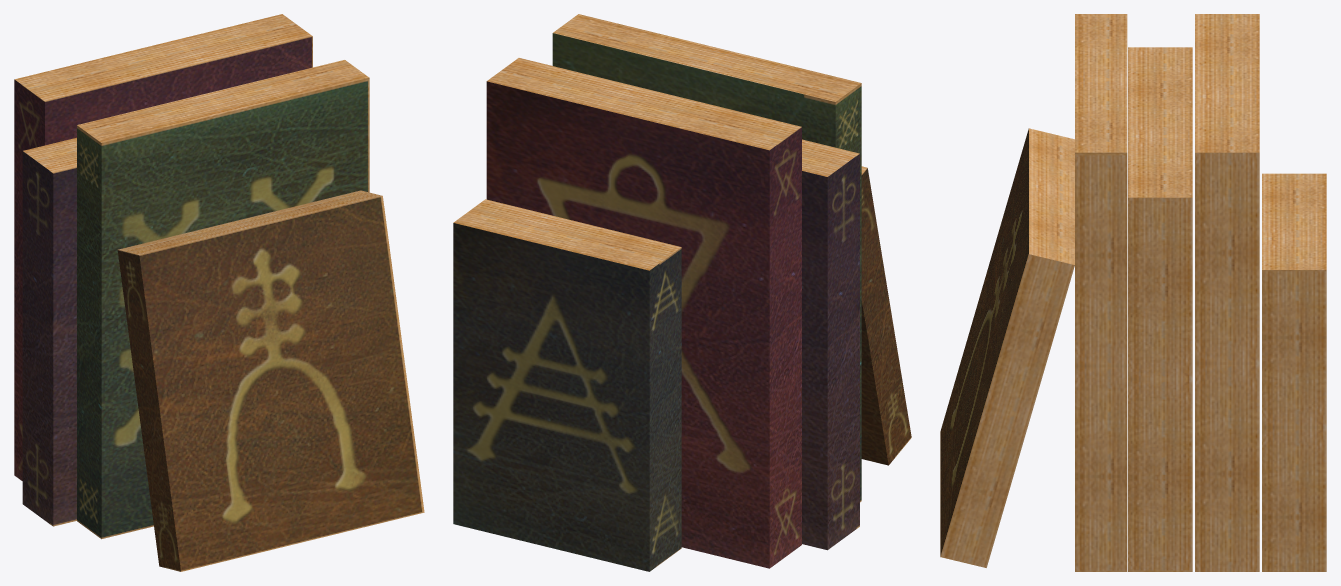
Rendered from bookpile_1.fbx.
3 views of the same model, side by side, from view 1: azimuth 30°, elevation 25°; view 2: azimuth 150°, elevation 25°; view 3: azimuth 270°, elevation 25° (orthographic). The views are drawn at different scales.
Parts seen in each view (by area): view 1: bookpile1_UV:bookpile2; view 2: bookpile1_UV:bookpile2; view 3: bookpile1_UV:bookpile2.
Part boxes in pixels (bbox=[...]): bookpile1_UV:bookpile2: bbox=[14, 14, 424, 571]; bookpile1_UV:bookpile2: bbox=[453, 14, 911, 571]; bookpile1_UV:bookpile2: bbox=[940, 14, 1326, 571].
Bounding box in the file's own units: 3.01 × 3.91 × 3.26.
1 material, 1 textured.
